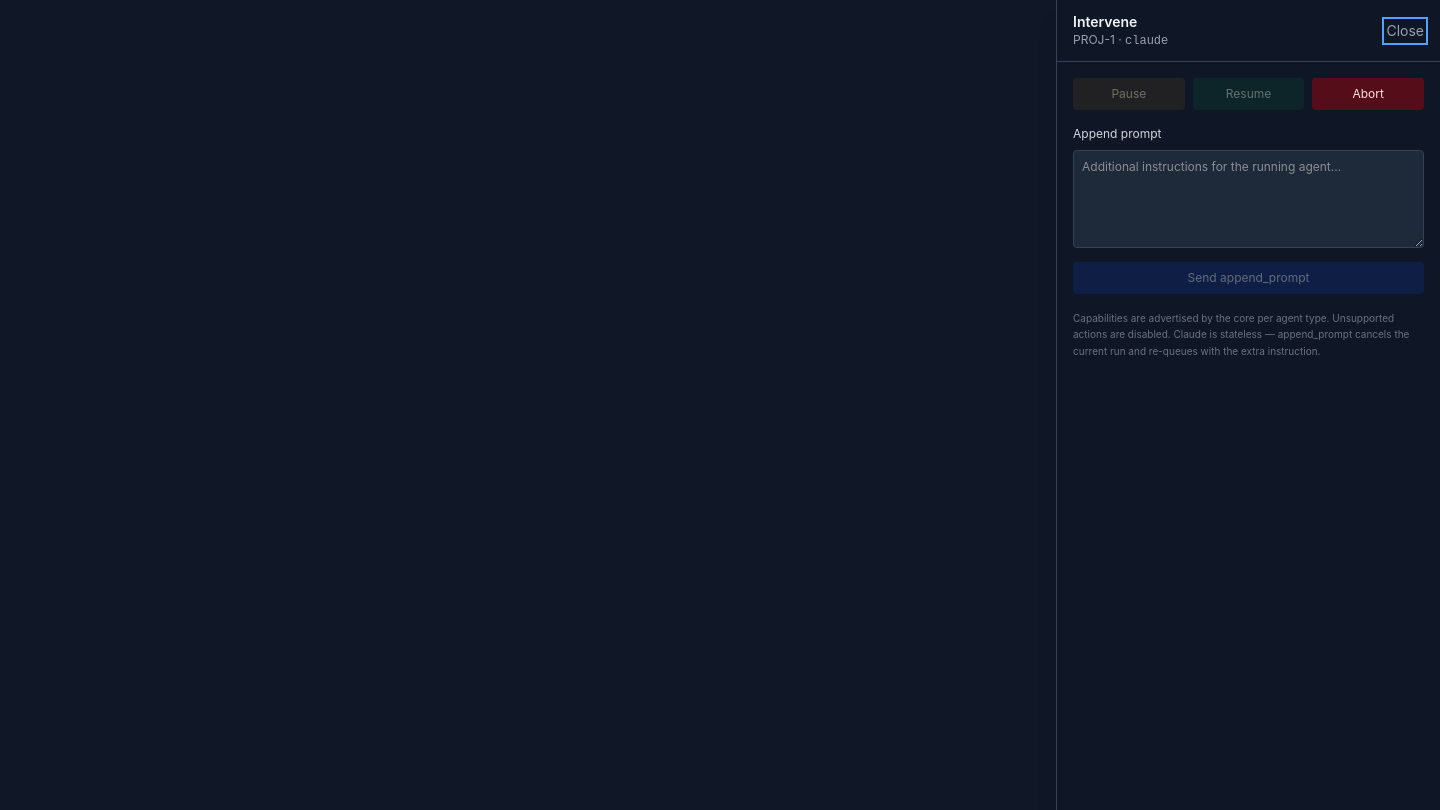
InterventionPanel render behaviour › posts the selected command for the attempt
Click the button "Abort": (1368,94) [1312, 78, 1424, 110]
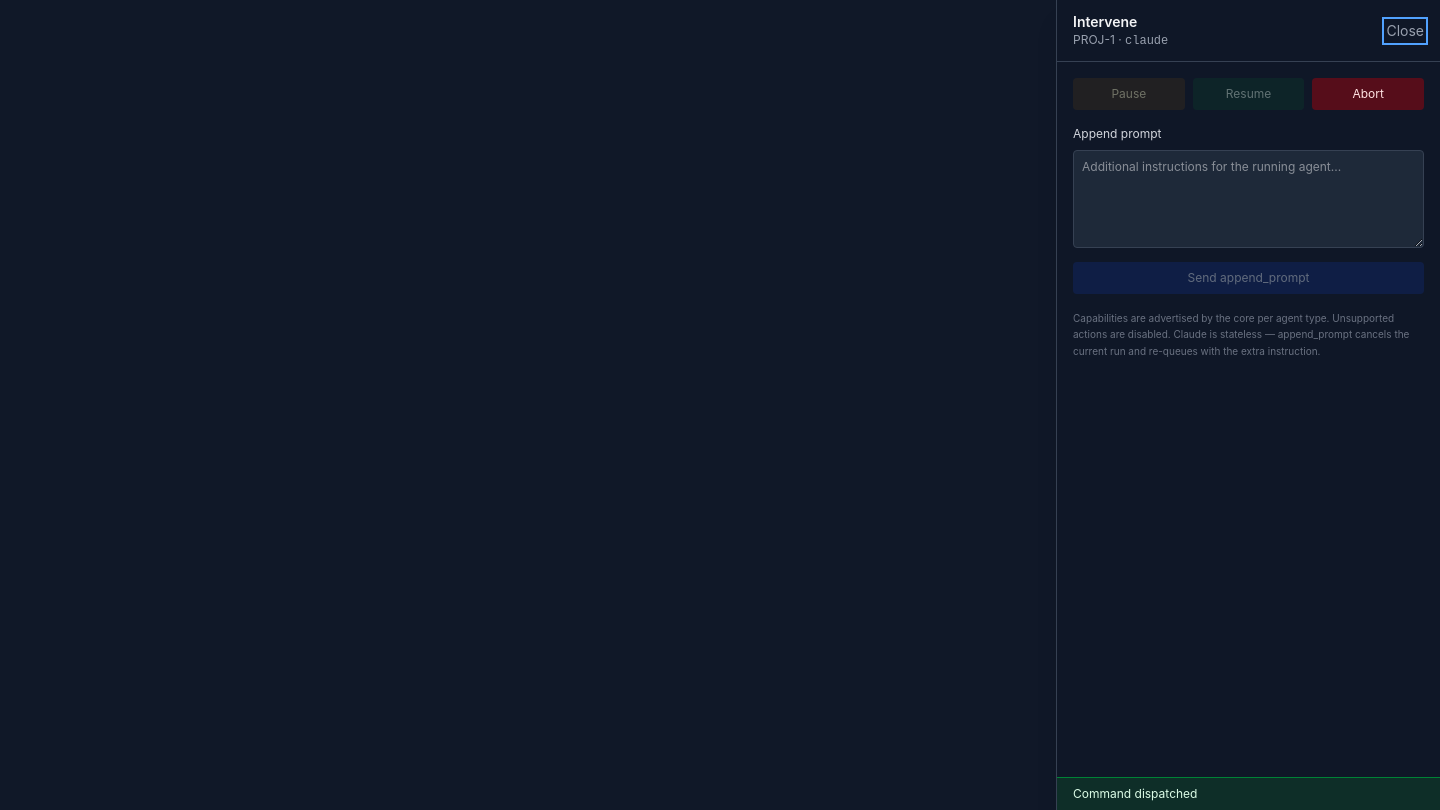
Now the text "Command dispatched" is shown, box [1057, 777, 1439, 809]
